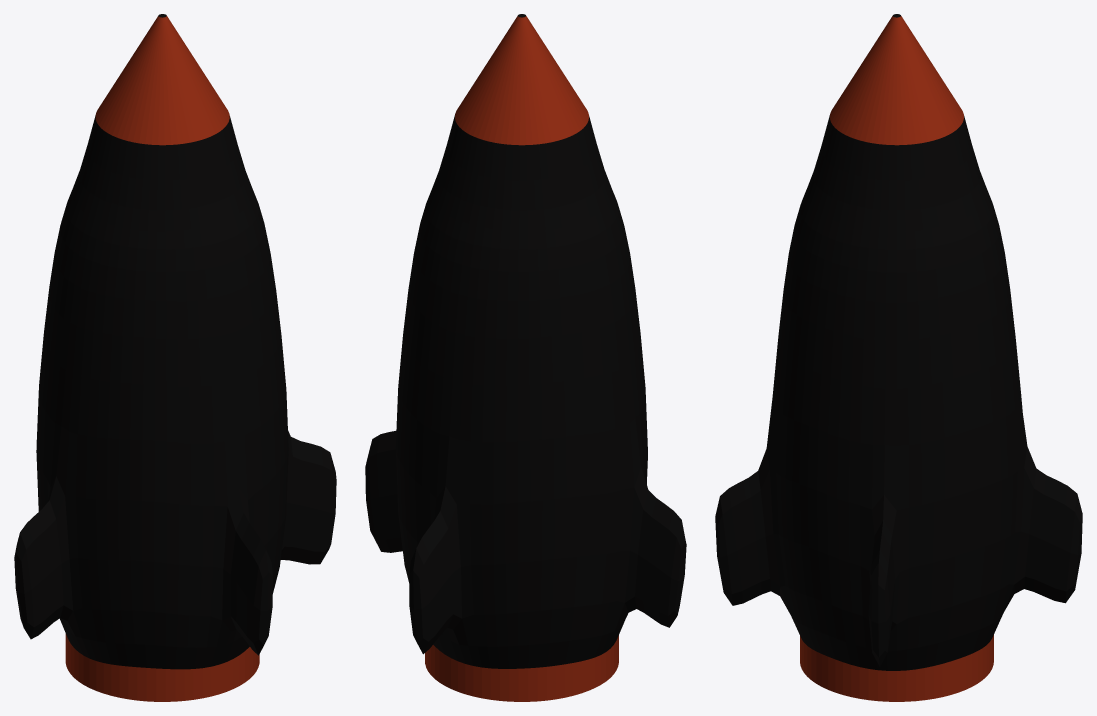
The model's file is rocket.fbx.
3 views of the same model, side by side, from view 1: azimuth 30°, elevation 25°; view 2: azimuth 150°, elevation 25°; view 3: azimuth 270°, elevation 25° (orthographic).
Visible parts, largest first — view 1: Cylinder.003, Cylinder.004, Cylinder.005; view 2: Cylinder.003, Cylinder.004, Cylinder.005; view 3: Cylinder.003, Cylinder.004, Cylinder.005.
Part boxes in pixels (x1,y1,x2,y2): Cylinder.003: (14,14,336,669); Cylinder.004: (95,16,229,145); Cylinder.005: (65,634,259,701); Cylinder.003: (365,14,686,668); Cylinder.004: (455,16,588,145); Cylinder.005: (425,635,618,701); Cylinder.003: (715,14,1082,670); Cylinder.004: (830,16,963,145); Cylinder.005: (800,635,993,701).
Bounding box in the file's own units: 282 × 545 × 281.
